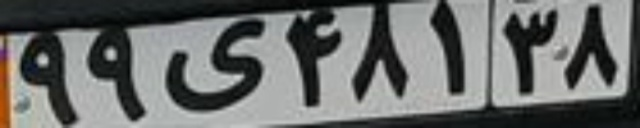1: (430, 0, 467, 95)
3: (501, 8, 547, 93)
4: (282, 10, 342, 106)
8: (350, 3, 410, 101), (563, 3, 618, 89)
9: (19, 30, 78, 126), (88, 27, 147, 122)
ye: (161, 16, 264, 114)
